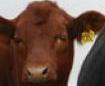muzzles: (22, 65, 57, 85)
